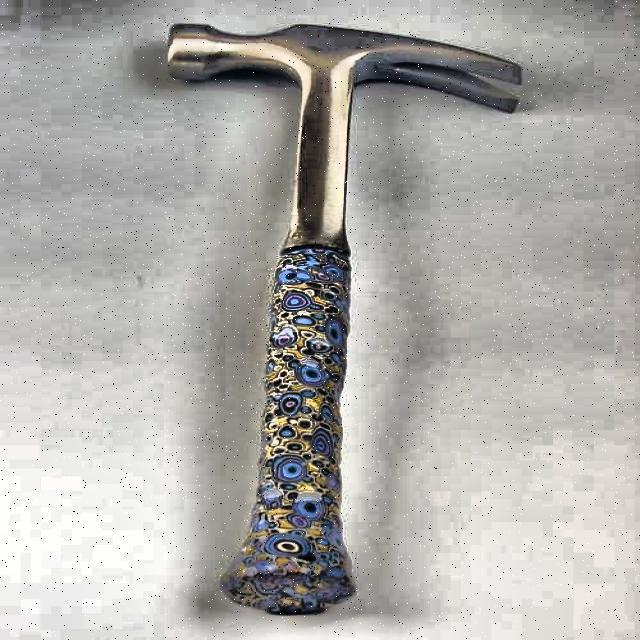hammer: (167, 20, 522, 610)
